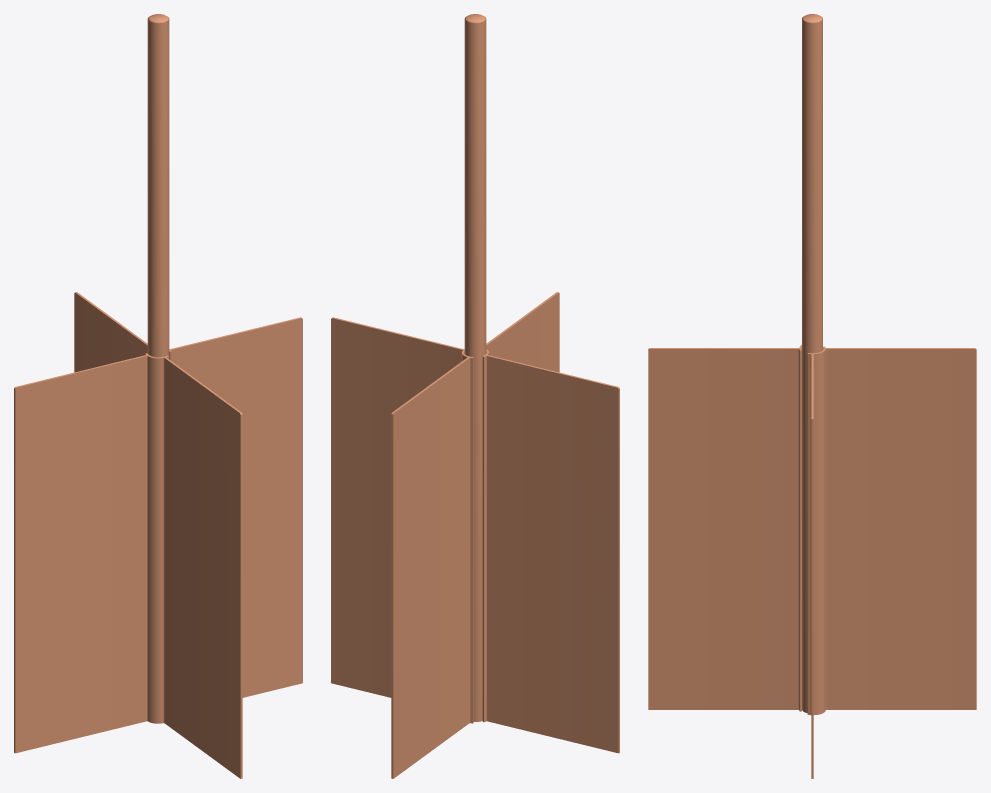
3 views of the same model, side by side, from view 1: azimuth 30°, elevation 25°; view 2: azimuth 150°, elevation 25°; view 3: azimuth 270°, elevation 25° (orthographic).
Visible parts, largest first — view 1: Cube.004, Cylinder.006; view 2: Cube.004, Cylinder.006; view 3: Cube.004, Cylinder.006.
Boxes of the visible parts, x1,y1,x2,y2 form: Cube.004: [14, 292, 302, 778]; Cylinder.006: [147, 14, 169, 358]; Cube.004: [331, 292, 619, 778]; Cylinder.006: [464, 14, 486, 721]; Cube.004: [648, 345, 976, 778]; Cylinder.006: [802, 14, 822, 712].
Size of the model in its own units: 2.21 by 5.13 by 2.21.
